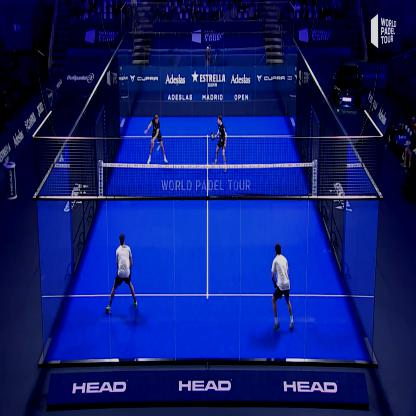ball: (157, 142, 161, 155)
